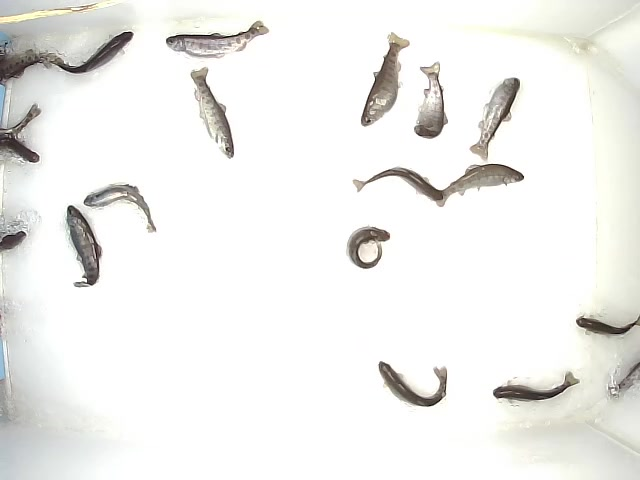fish: (360, 30, 411, 127), (469, 76, 521, 163), (165, 19, 271, 60), (40, 30, 135, 75), (190, 66, 235, 160), (432, 164, 525, 208), (82, 182, 157, 234), (378, 361, 448, 409), (352, 167, 444, 202), (492, 370, 581, 405), (66, 205, 103, 288), (412, 60, 448, 140), (345, 225, 391, 271), (576, 313, 640, 340)
